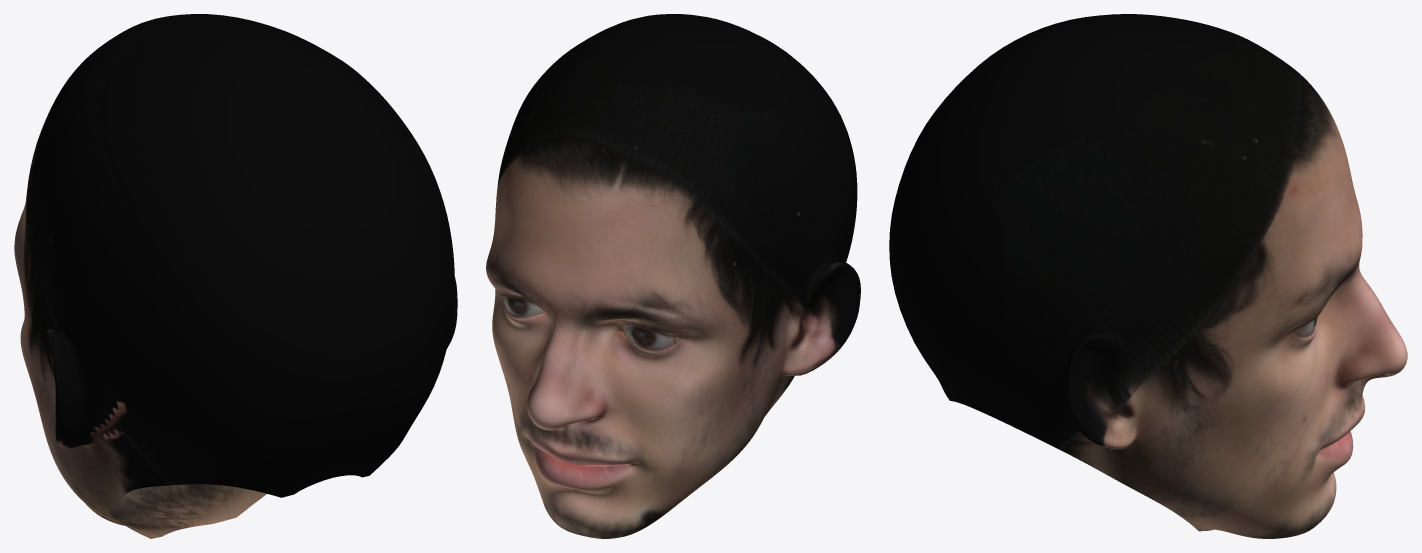
The picture shows the model from 3 angles, left to right: view 1: azimuth 30°, elevation 25°; view 2: azimuth 150°, elevation 25°; view 3: azimuth 270°, elevation 25°; orthographic projection. The views are drawn at different scales.
Parts seen in each view (by area): view 1: FaceBuilderHead.001; view 2: FaceBuilderHead.001; view 3: FaceBuilderHead.001.
Part boxes in pixels (x1,y1,x2,y2): FaceBuilderHead.001: (14, 14, 457, 538); FaceBuilderHead.001: (486, 14, 860, 538); FaceBuilderHead.001: (889, 14, 1407, 538).
Size of the model in its own units: 1.7 by 2.17 by 2.05.
Materials: 1 (1 with a texture image).
